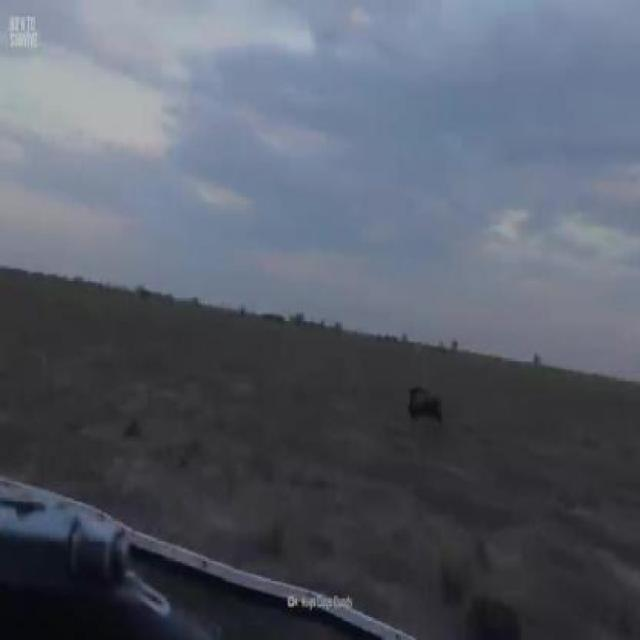Boar: (392, 381, 443, 428)
